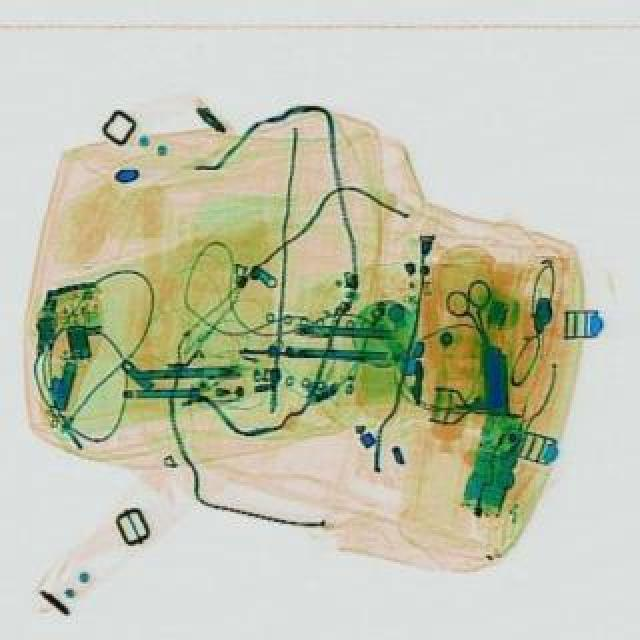pliers: (440, 276, 508, 356)
